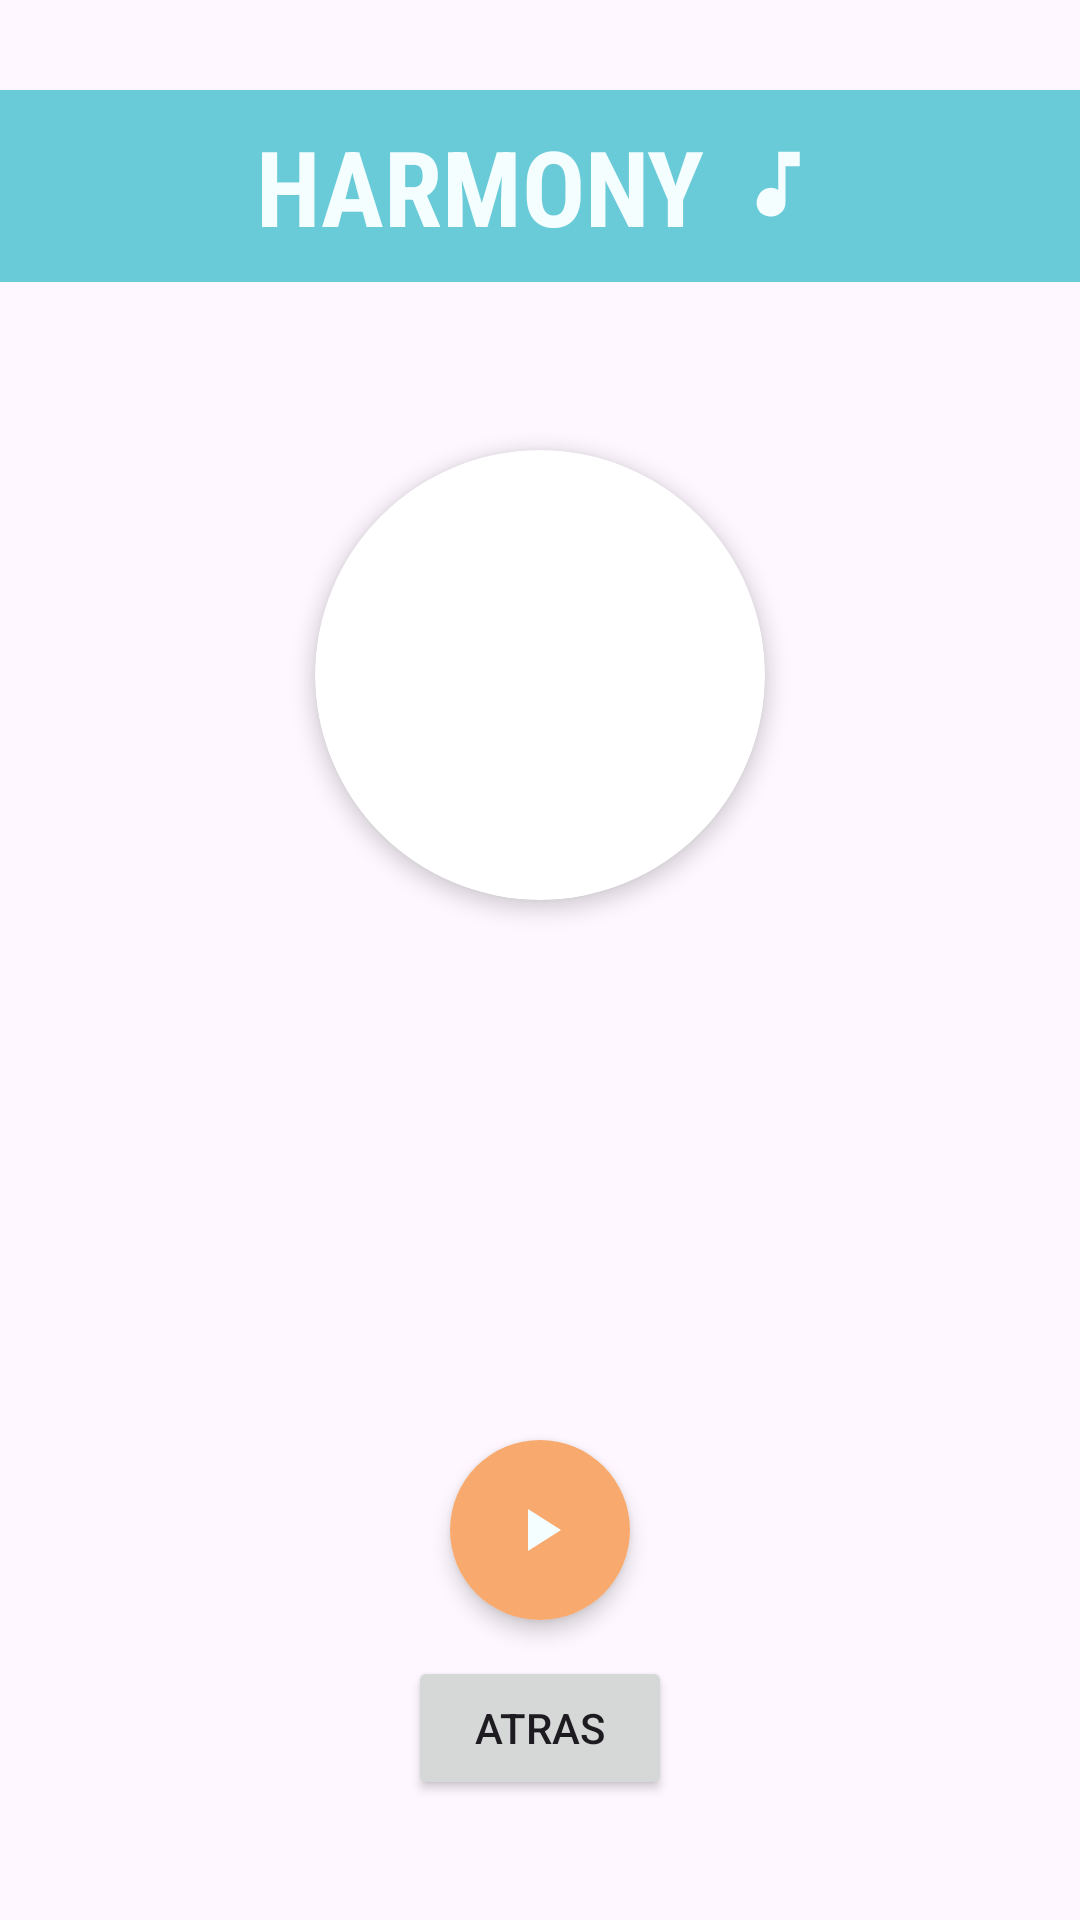

Where icons sit on this 1080*1920 app screen, as (x1, y1, x2, y2):
music: (756, 151, 800, 217)
